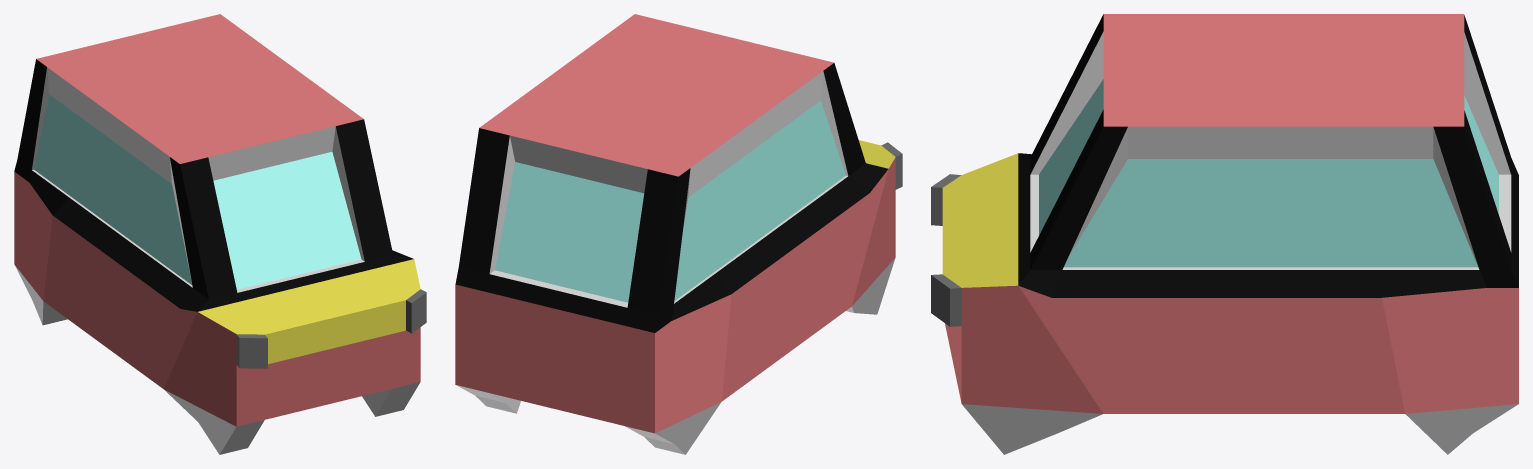
Rendered from coche.fbx.
The picture shows the model from 3 angles, left to right: view 1: azimuth 30°, elevation 25°; view 2: azimuth 150°, elevation 25°; view 3: azimuth 270°, elevation 25°; orthographic projection. The views are drawn at different scales.
Parts seen in each view (by area): view 1: Cube; view 2: Cube; view 3: Cube.
Boxes of the visible parts, left/top/right/bottom form: Cube: left=14, top=14, right=426, bottom=454; Cube: left=455, top=14, right=902, bottom=454; Cube: left=931, top=14, right=1518, bottom=454.
Bounding box in the file's own units: 490 × 565 × 917.
